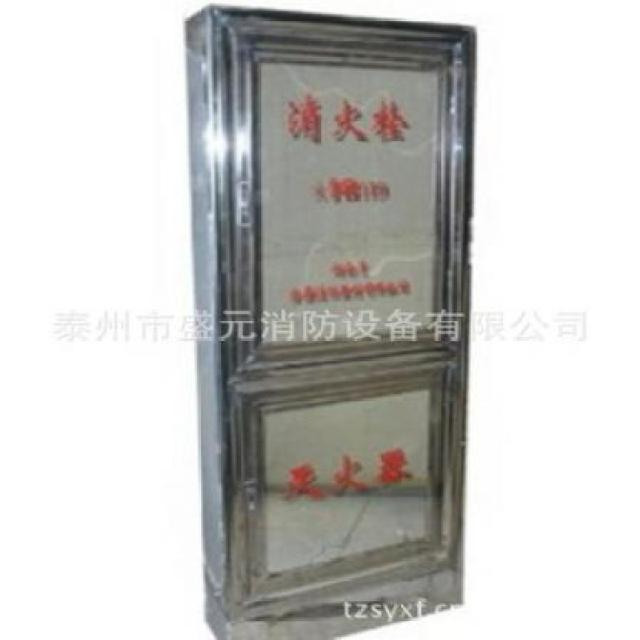firehydrant: (177, 0, 481, 640)
